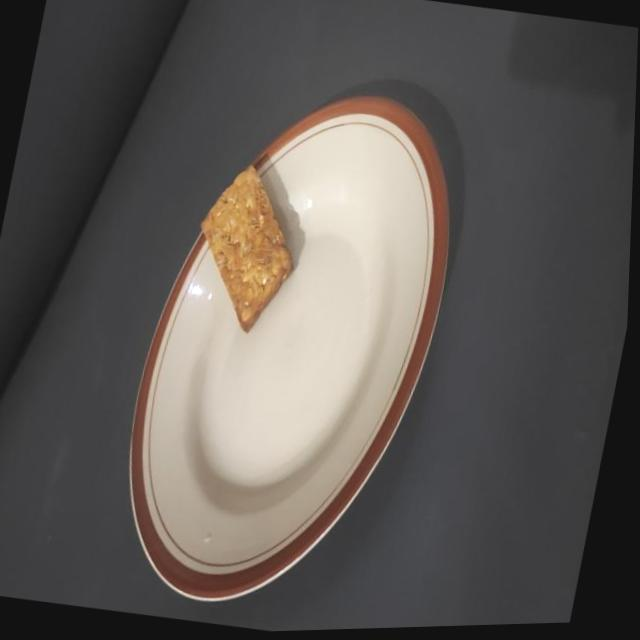tempe_goreng: (201, 165, 293, 332)
